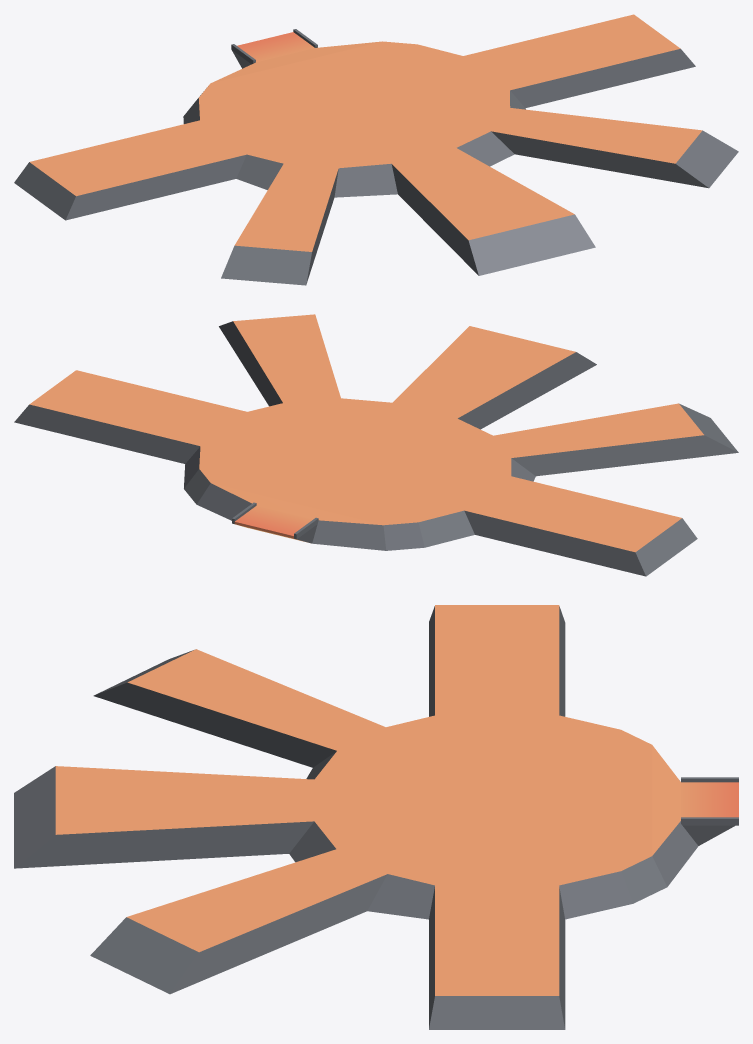
Rendered from levelend4.fbx.
The picture shows the model from 3 angles, top to bottom: view 1: azimuth 30°, elevation 25°; view 2: azimuth 150°, elevation 25°; view 3: azimuth 270°, elevation 25°; orthographic projection. The views are drawn at different scales.
Parts seen in each view (by area): view 1: road.004; view 2: road.004; view 3: road.004.
Boxes of the visible parts, x1,y1,x2,y2 form: road.004: (14, 14, 738, 285); road.004: (14, 314, 738, 576); road.004: (14, 605, 738, 1029).
Bounding box in the file's own units: 6267 × 235 × 4712.
